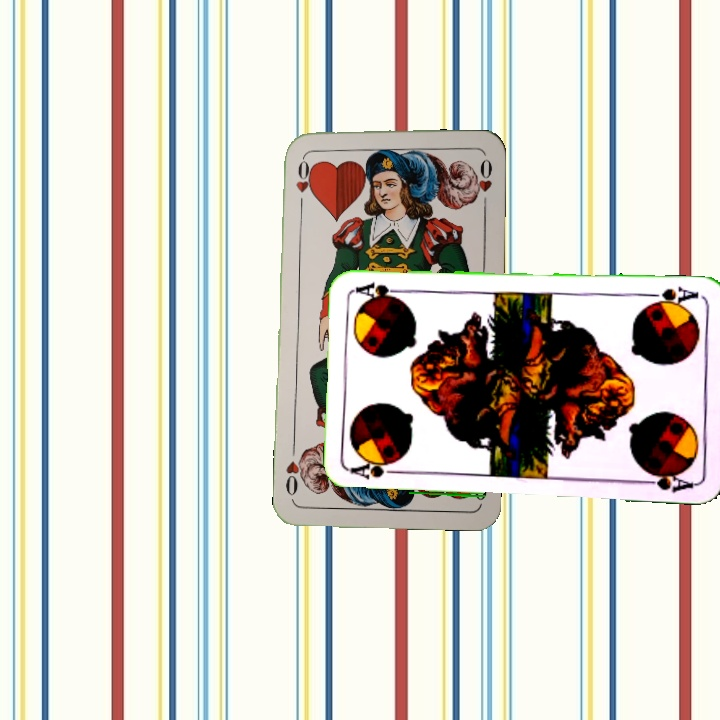HO: (292, 152, 312, 211)
SA: (643, 282, 702, 310), (348, 459, 407, 482)
